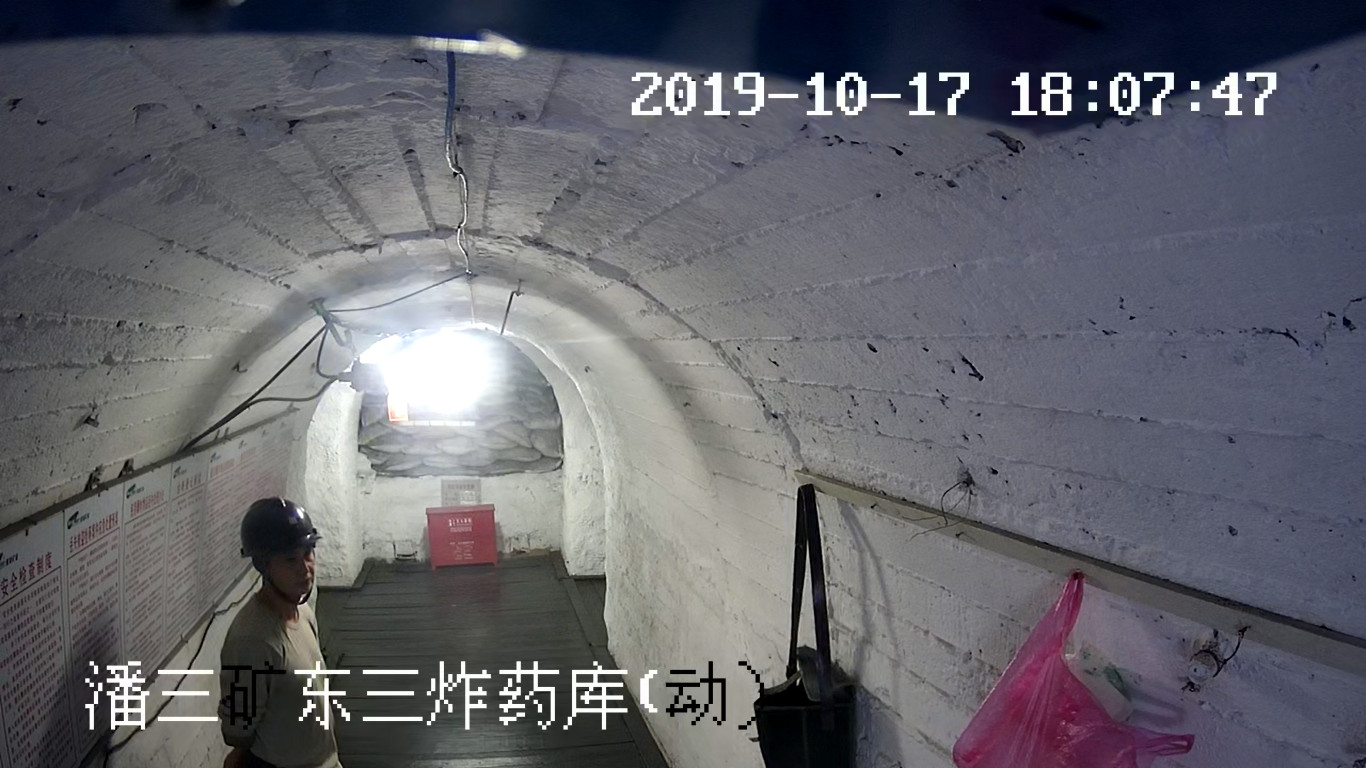helmet: (238, 495, 321, 558)
